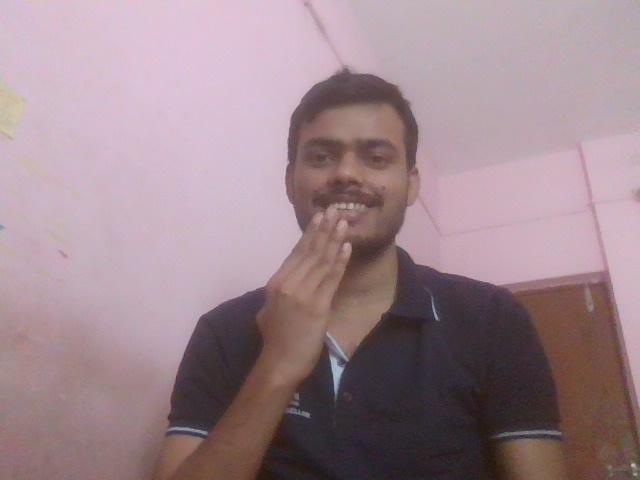ThankYou: (246, 170, 433, 377)
